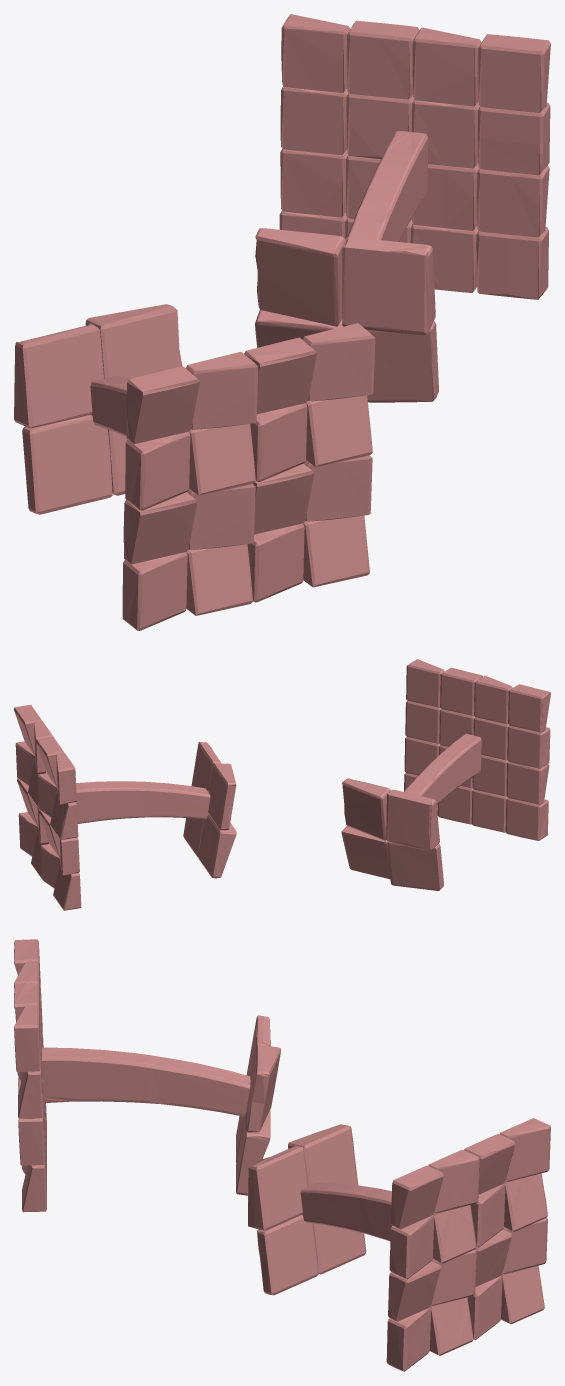
Rendered from sas3.dae.
3 renders of one model, top to bottom at view 1: azimuth 30°, elevation 25°; view 2: azimuth 150°, elevation 25°; view 3: azimuth 270°, elevation 25°, orthographic. The views are drawn at different scales.
Parts seen in each view (by area): view 1: Obj_000019, Obj_000001, Obj_000040, Obj_000028, Obj_000008, Obj_000022, Obj_000017, Obj_000014, Obj_000018, Obj_000005, Obj_000007, Obj_000038 (+29 smaller); view 2: Obj_000008, Obj_000029, Obj_000040, Obj_000028, Obj_000022, Obj_000041, Obj_000038, Obj_000027, Obj_000042, Obj_000020, Obj_000035, Obj_000001 (+27 smaller); view 3: Obj_000029, Obj_000008, Obj_000019, Obj_000007, Obj_000001, Obj_000017, Obj_000005, Obj_000018, Obj_000006, Obj_000021, Obj_000012, Obj_000022 (+20 smaller).
Part boxes in pixels (x1,y1,x2,y2): Obj_000019: [342, 237, 435, 335]; Obj_000001: [255, 228, 344, 326]; Obj_000040: [14, 323, 103, 428]; Obj_000028: [22, 414, 112, 514]; Obj_000008: [347, 131, 428, 241]; Obj_000022: [85, 304, 182, 378]; Obj_000017: [478, 34, 550, 112]; Obj_000014: [347, 20, 419, 99]; Obj_000018: [281, 14, 350, 92]; Obj_000005: [412, 27, 481, 106]; Obj_000007: [367, 321, 438, 402]; Obj_000038: [126, 366, 199, 444]; Obj_000008: [76, 781, 210, 823]; Obj_000029: [404, 733, 481, 804]; Obj_000040: [386, 789, 439, 851]; Obj_000028: [387, 841, 443, 890]; Obj_000022: [342, 778, 390, 840]; Obj_000041: [341, 826, 389, 879]; Obj_000038: [508, 684, 550, 732]; Obj_000027: [507, 725, 550, 768]; Obj_000042: [505, 798, 548, 840]; Obj_000020: [198, 814, 236, 878]; Obj_000035: [440, 667, 482, 716]; Obj_000001: [208, 763, 236, 830]; Obj_000029: [42, 1047, 250, 1116]; Obj_000008: [300, 1182, 392, 1241]; Obj_000019: [248, 1146, 308, 1230]; Obj_000007: [257, 1215, 318, 1295]; Obj_000001: [288, 1124, 358, 1185]; Obj_000017: [391, 1165, 443, 1229]; Obj_000005: [428, 1149, 479, 1213]; Obj_000018: [499, 1118, 550, 1181]; Obj_000006: [389, 1215, 434, 1279]; Obj_000021: [386, 1307, 431, 1371]; Obj_000012: [388, 1261, 440, 1321]; Obj_000022: [246, 1044, 280, 1133].
Size of the model in its own units: 3.43 by 3.13 by 1.21.
